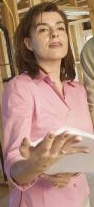hard-hat: (69, 0, 94, 21)
